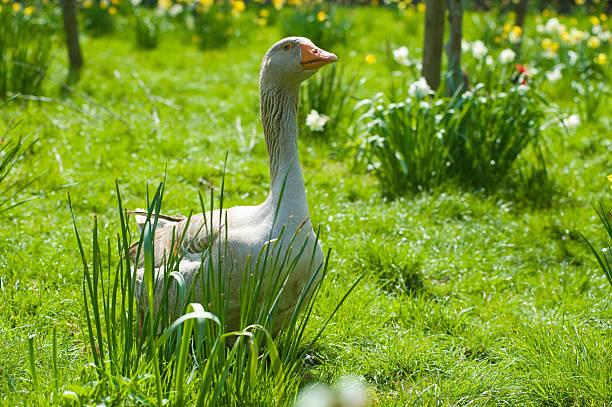goose: (121, 34, 342, 344)
